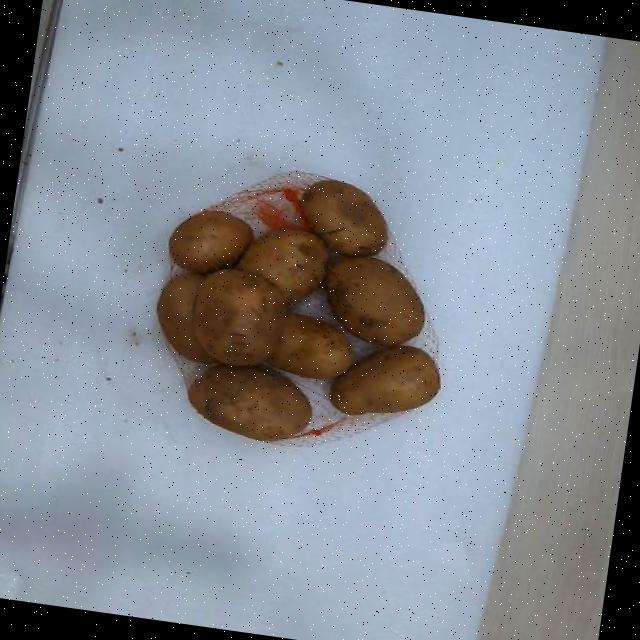potato: (188, 364, 311, 442), (192, 269, 283, 366), (325, 257, 424, 346), (330, 346, 440, 415), (236, 227, 325, 303), (301, 180, 387, 256), (269, 314, 351, 379), (168, 210, 252, 272), (157, 273, 213, 362)
